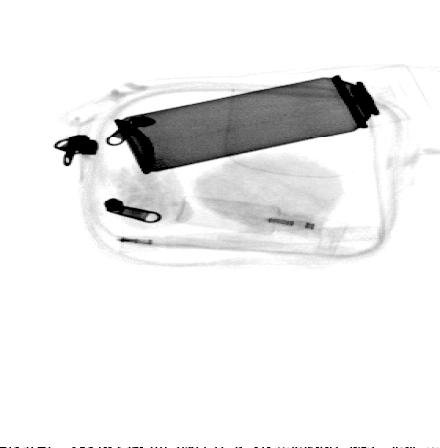Sprayer: (112, 62, 438, 176)
